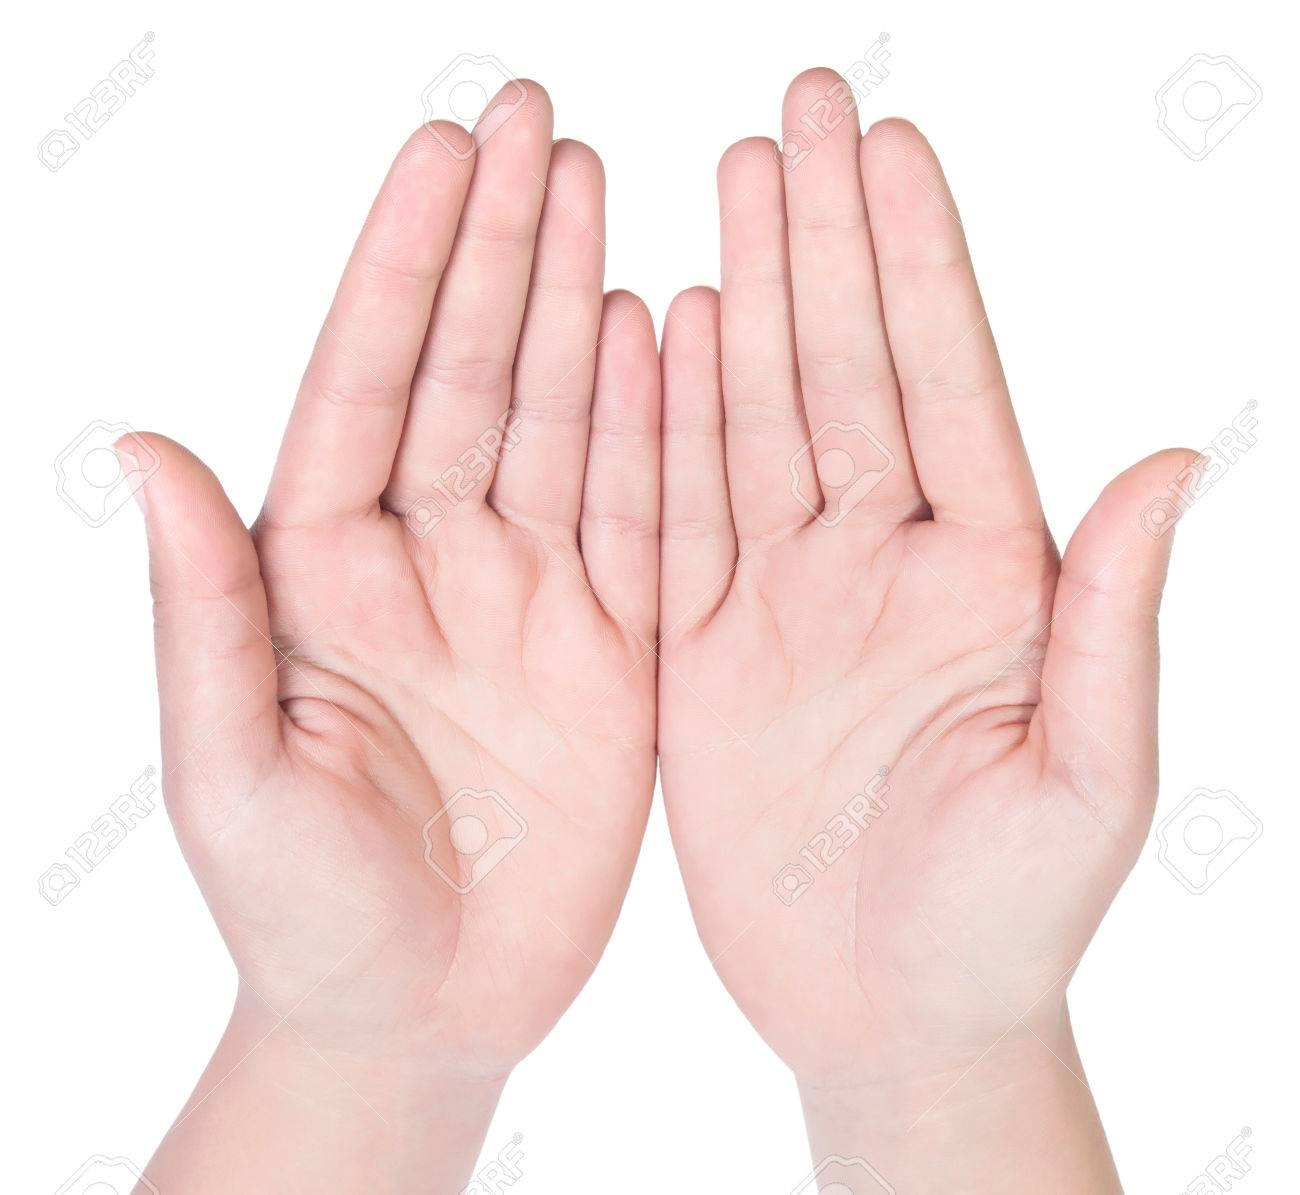No_Glove: (82, 62, 1228, 1031)
